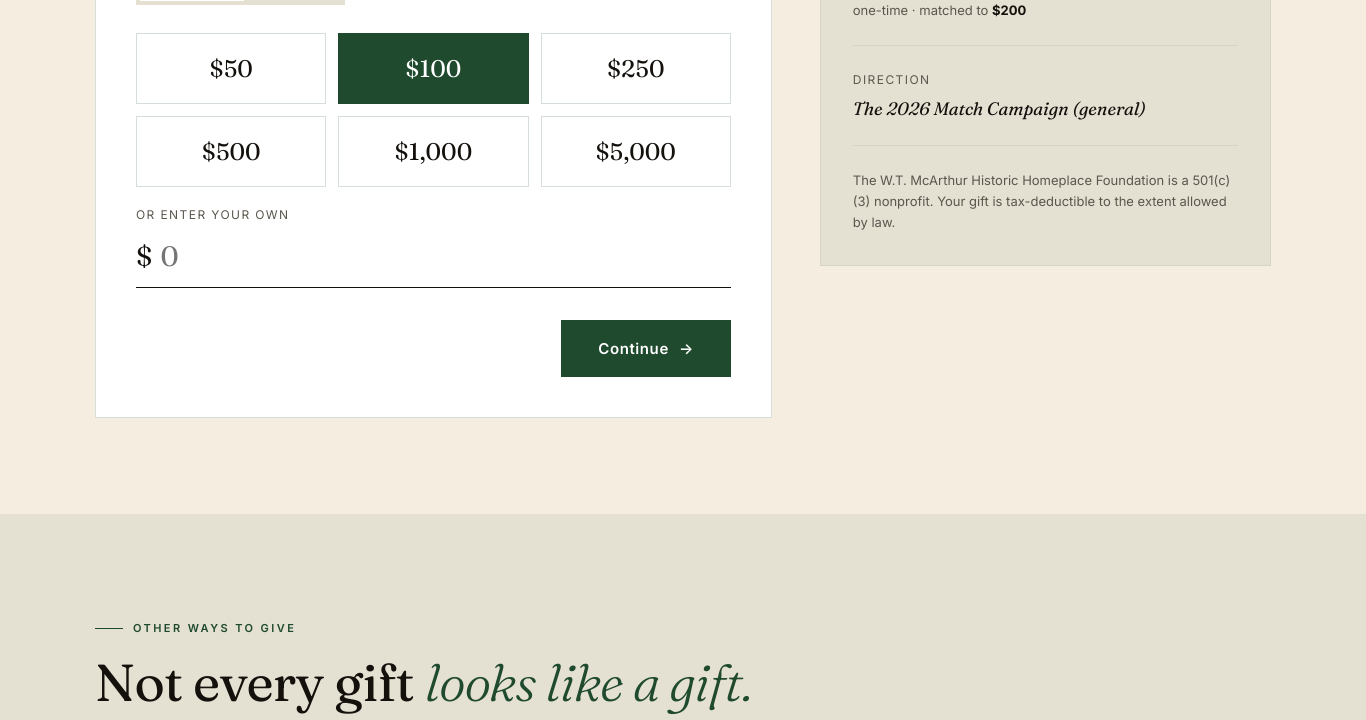
DonateForm step machine › advances from Amount to Designation on Continue
(page scrolled)
Note: Default amount (100) makes Continue actionable.
Click the button "Continue →". click: (646, 348)
box: x1=561 y1=320 x2=731 y2=377
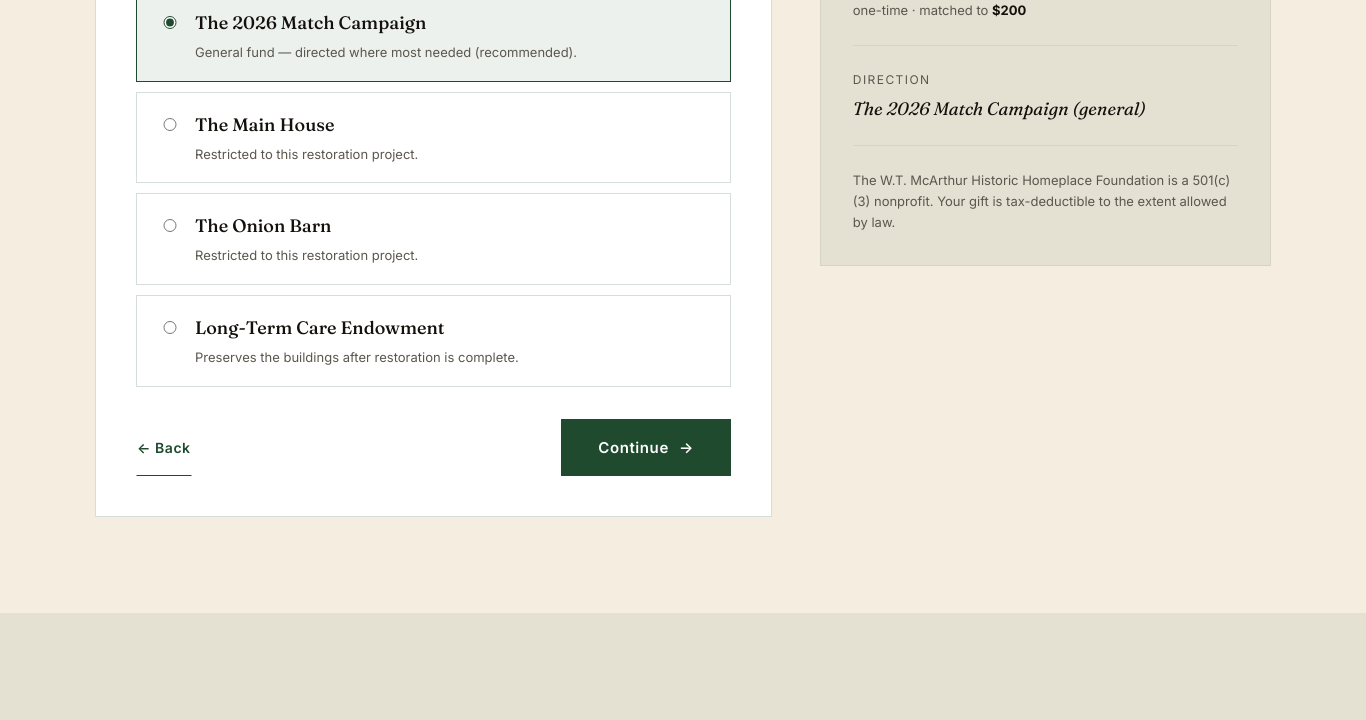
Now the text "The Main House" is shown, box x1=195 y1=113 x2=334 y2=136
Now the text "The Onion Barn" is shown, box x1=195 y1=214 x2=332 y2=237
